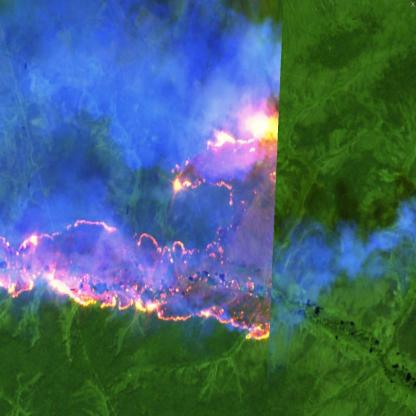fire: (0, 86, 282, 346)
